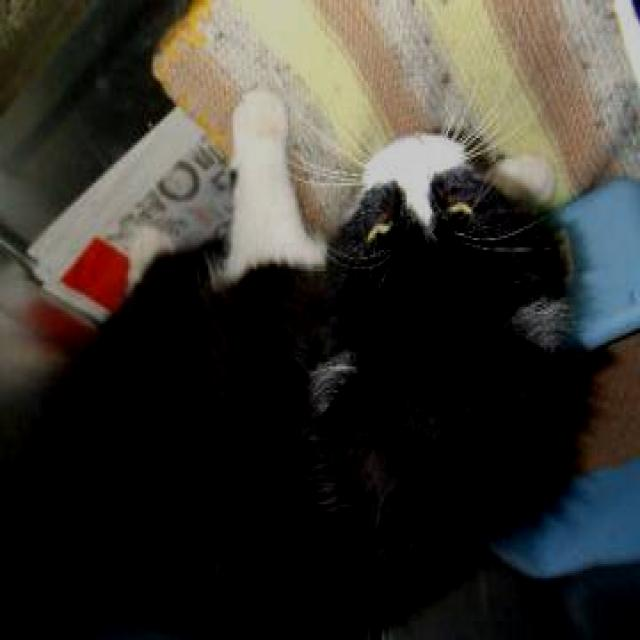Kucing: (22, 87, 617, 631)
